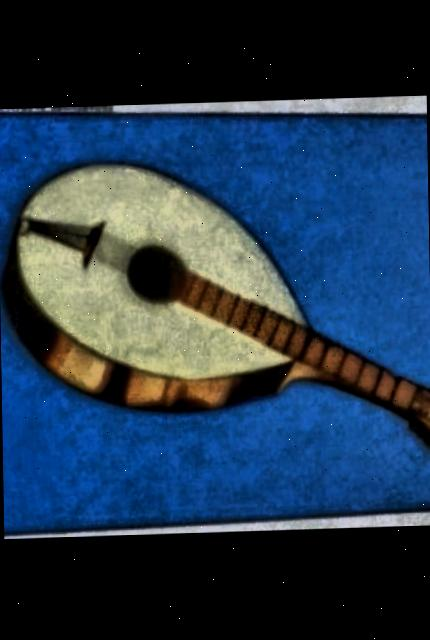El Bandolon: (0, 114, 430, 522)
